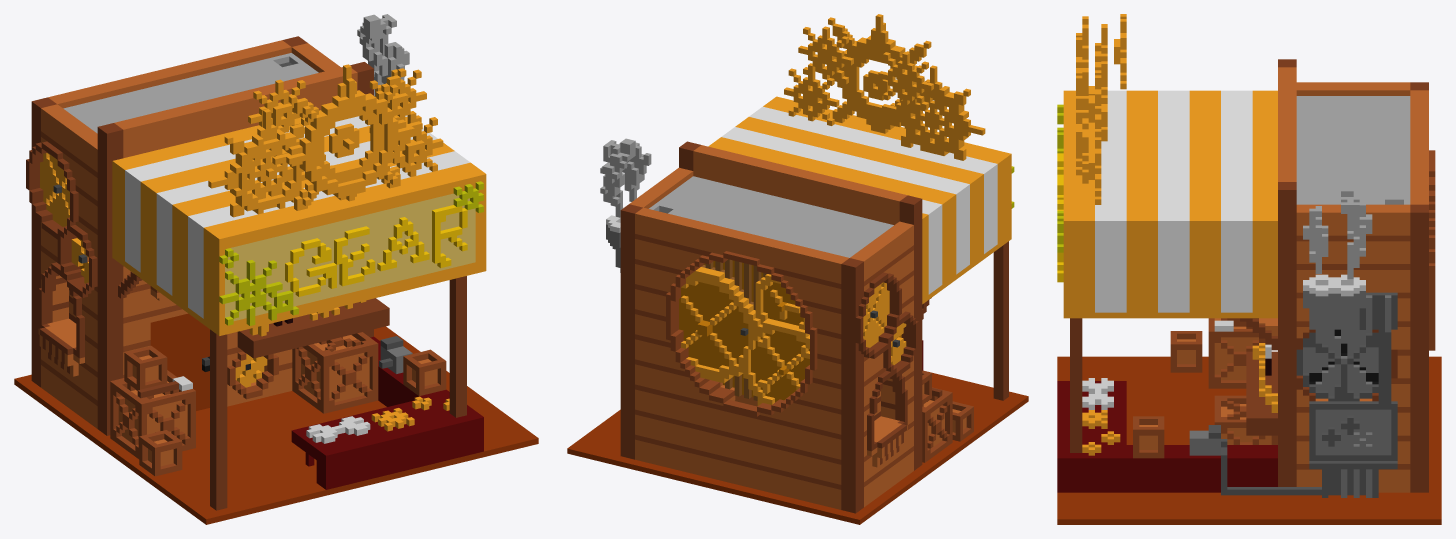
Rendered from taeyup.obj.
3 views of the same model, side by side, from view 1: azimuth 30°, elevation 25°; view 2: azimuth 150°, elevation 25°; view 3: azimuth 270°, elevation 25° (orthographic). The views are drawn at different scales.
Visible parts, largest first — view 1: taeyup; view 2: taeyup; view 3: taeyup.
Boxes of the visible parts, x1=… form: taeyup: x1=14, y1=14, x2=538, y2=524; taeyup: x1=567, y1=14, x2=1028, y2=524; taeyup: x1=1057, y1=14, x2=1441, y2=524.
Bounding box in the file's own units: 61 × 72 × 61.
Materials: 1 (1 with a texture image).
